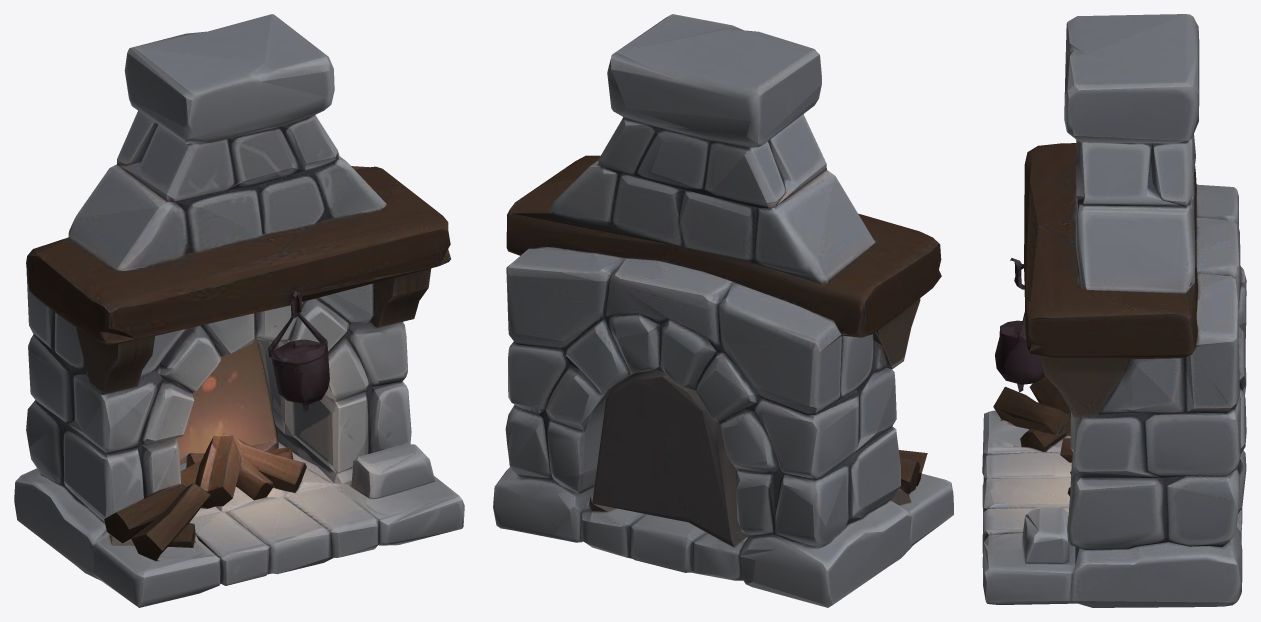
The model's file is fireplace.glb.
3 views of the same model, side by side, from view 1: azimuth 30°, elevation 25°; view 2: azimuth 150°, elevation 25°; view 3: azimuth 270°, elevation 25° (orthographic). The views are drawn at different scales.
Visible parts, largest first — view 1: fireplace; view 2: fireplace; view 3: fireplace.
Part boxes in pixels (left/top/right/bottom): fireplace: left=14, top=14, right=464, bottom=607; fireplace: left=493, top=14, right=953, bottom=607; fireplace: left=982, top=14, right=1246, bottom=607.
Bounding box in the file's own units: 1.86 × 2.4 × 1.2.
1 material, 1 textured.
